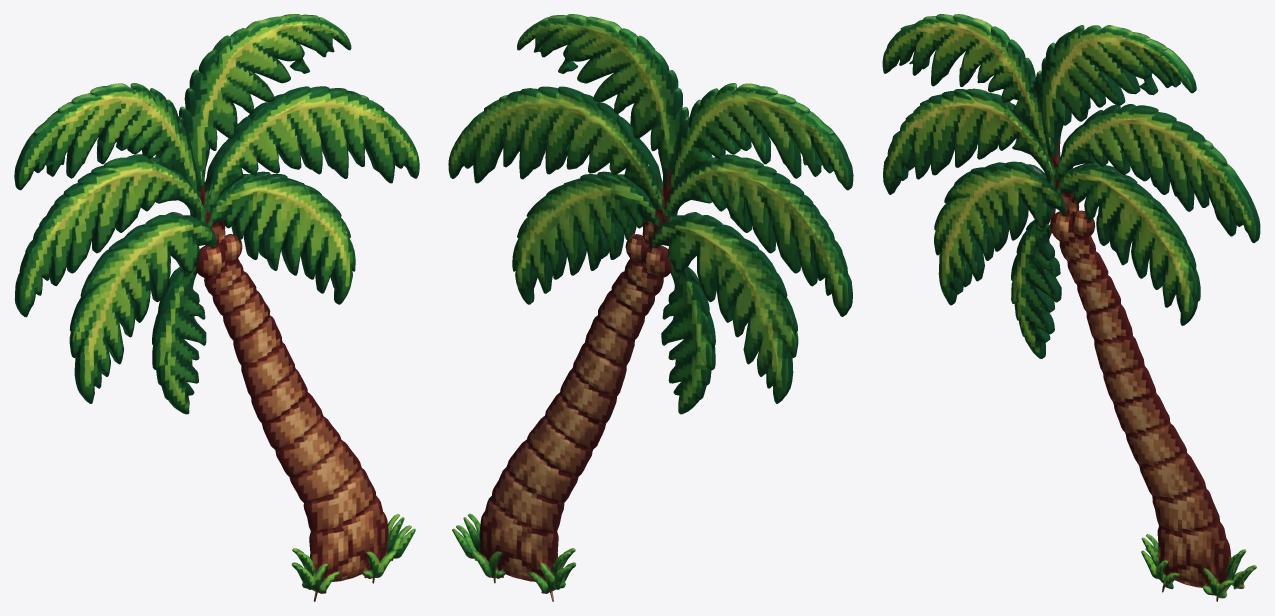
The model's file is palm_tree_optimized.glb.
The picture shows the model from 3 angles, left to right: view 1: azimuth 30°, elevation 25°; view 2: azimuth 150°, elevation 25°; view 3: azimuth 330°, elevation 25°; orthographic projection. The views are drawn at different scales.
Size of the model in its own units: 1.34 by 1.9 by 0.058.
1 material, 1 textured.
